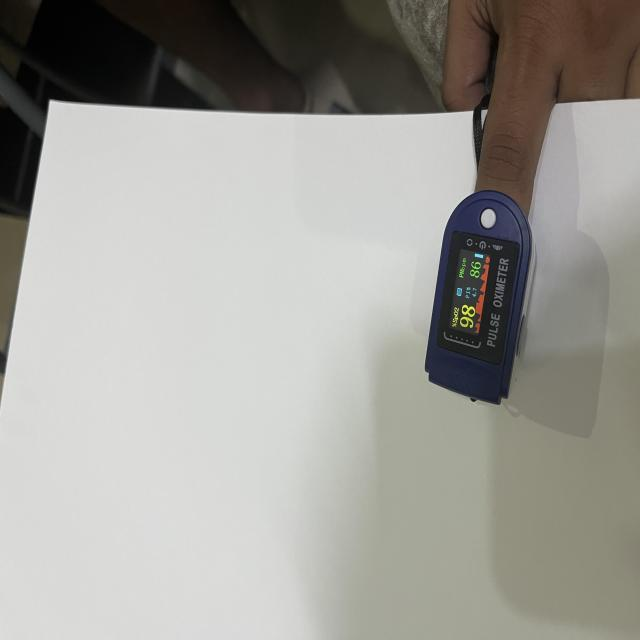spo2: (425, 190, 533, 406)
